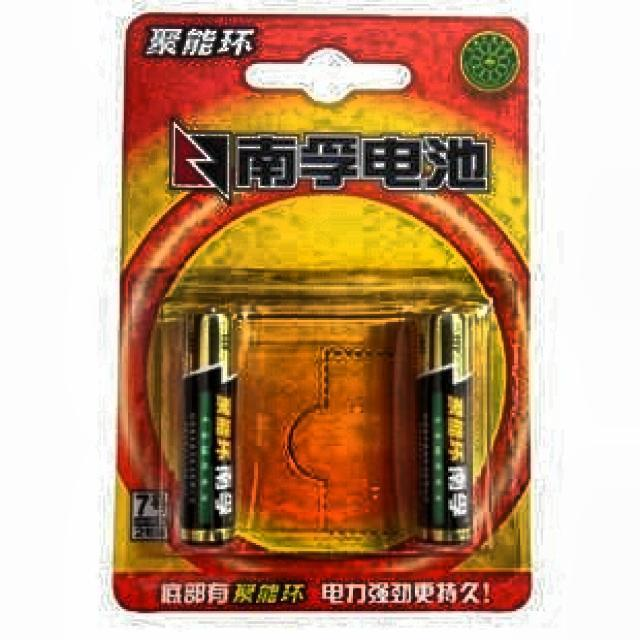battery: (181, 311, 236, 543), (419, 313, 471, 543)
